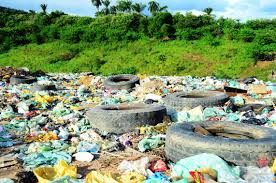tire: (163, 121, 276, 172), (85, 102, 168, 133), (158, 90, 231, 114), (101, 73, 141, 91), (8, 75, 37, 85)
